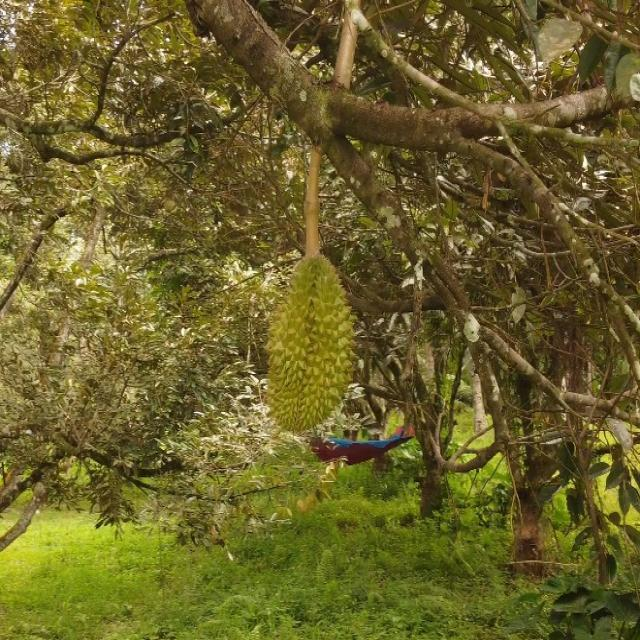immature: (262, 248, 356, 430)
